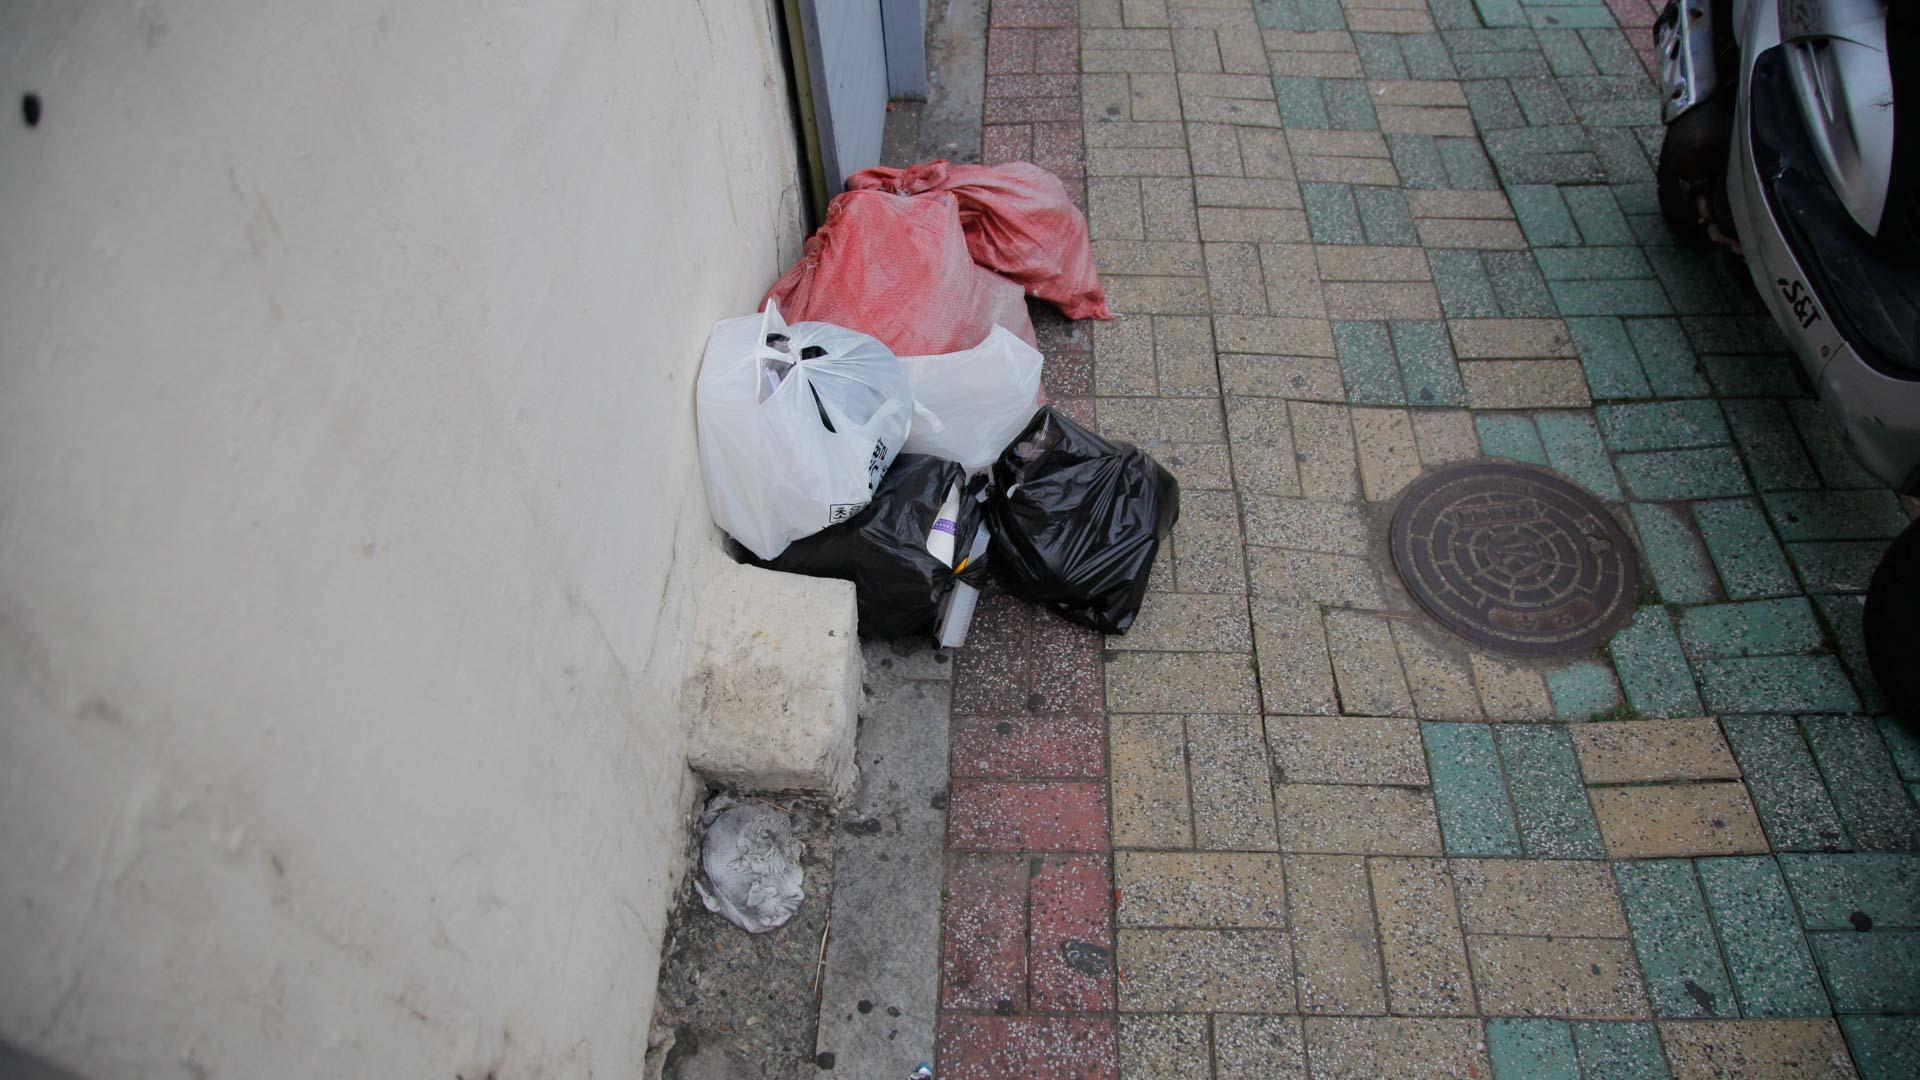black_bag: (977, 397, 1191, 644), (765, 446, 1011, 658)
white_bag: (684, 305, 924, 564)
